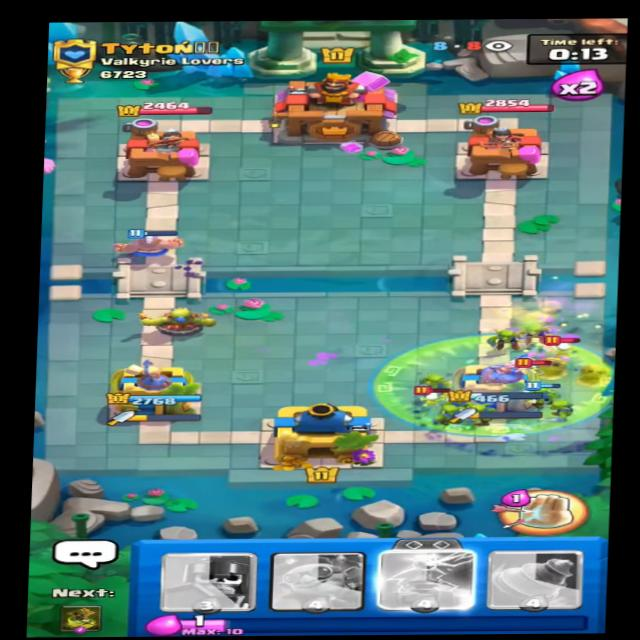skeleton: (416, 386, 451, 409), (546, 337, 580, 354)
